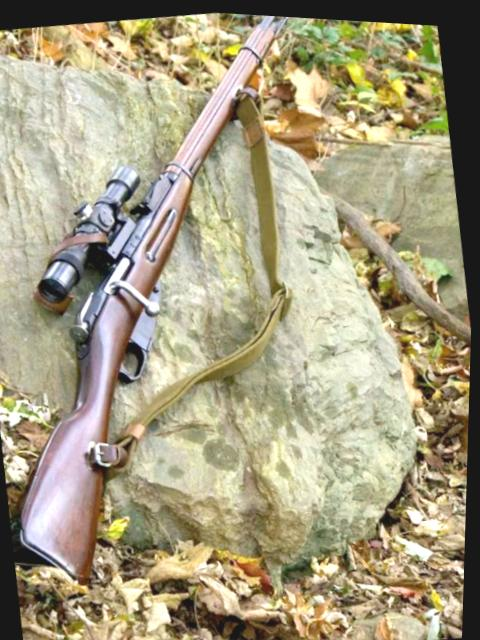rifle: (0, 0, 377, 602)
